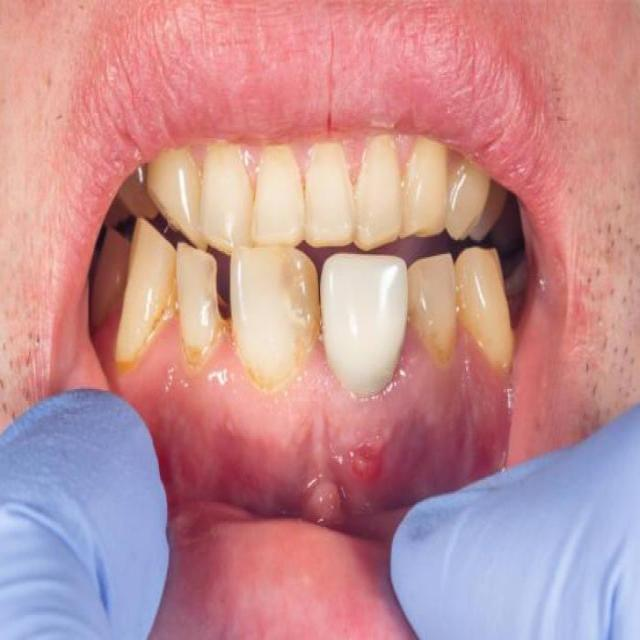CALCULUS: (275, 265, 325, 347)
